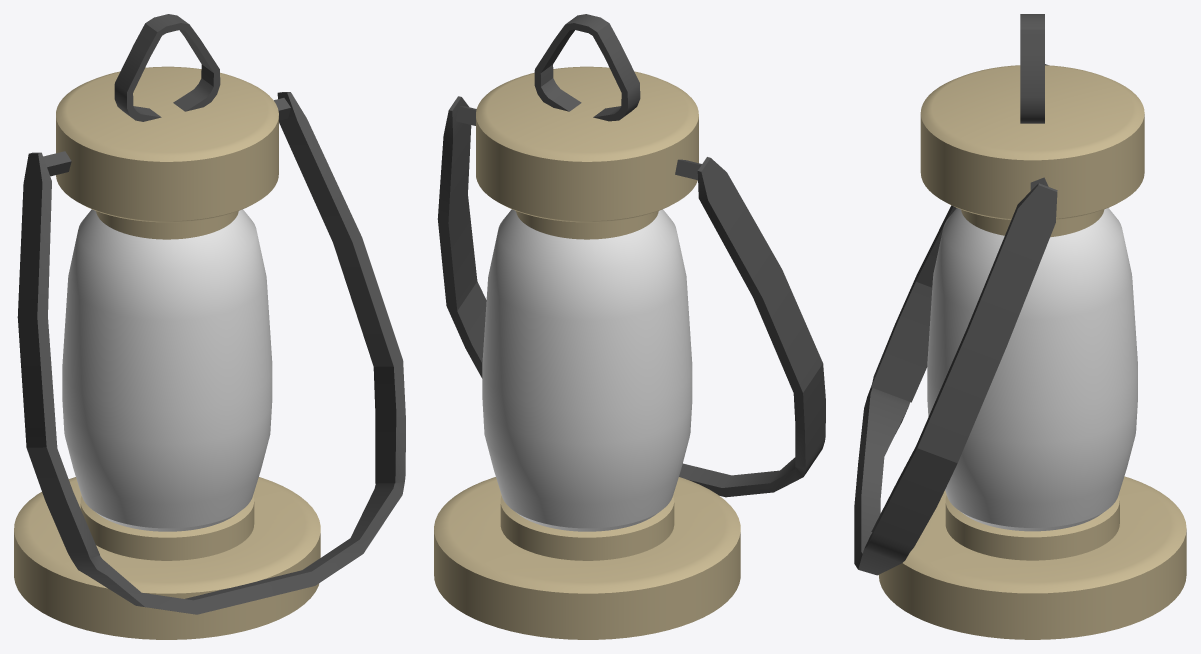
The model's file is HandLamp.fbx.
3 renders of one model, left to right at view 1: azimuth 30°, elevation 25°; view 2: azimuth 150°, elevation 25°; view 3: azimuth 270°, elevation 25°, orthographic.
Parts seen in each view (by area): view 1: Base, Handle; view 2: Base, Handle; view 3: Base, Handle.
Part boxes in pixels (bbox=[...]): Base: bbox=[14, 14, 320, 639]; Handle: bbox=[17, 92, 405, 614]; Base: bbox=[434, 14, 740, 639]; Handle: bbox=[437, 96, 825, 497]; Base: bbox=[878, 14, 1186, 639]; Handle: bbox=[854, 64, 1057, 575].
Size of the model in its own units: 402 by 599 by 324.
